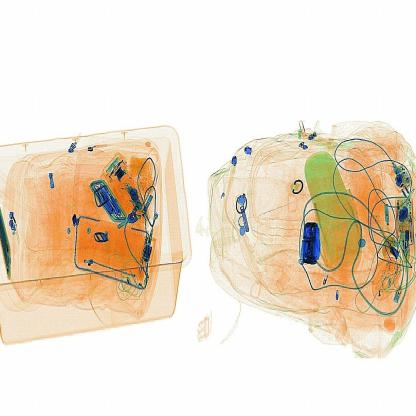scissors: (292, 217, 330, 271)
